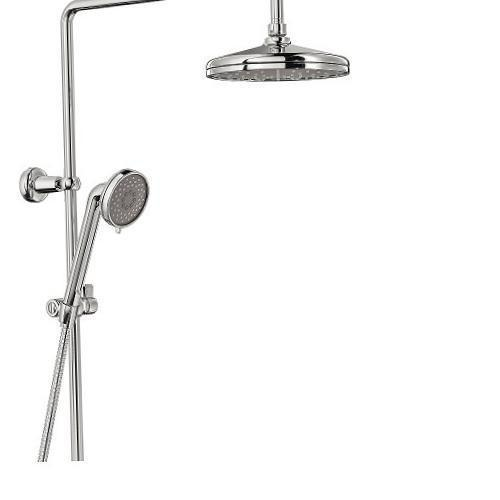Ducha: (18, 0, 379, 469)
